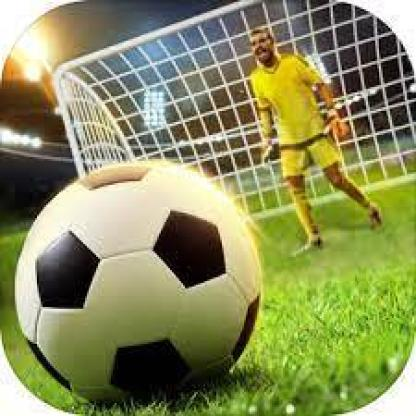ball: (15, 162, 261, 404)
